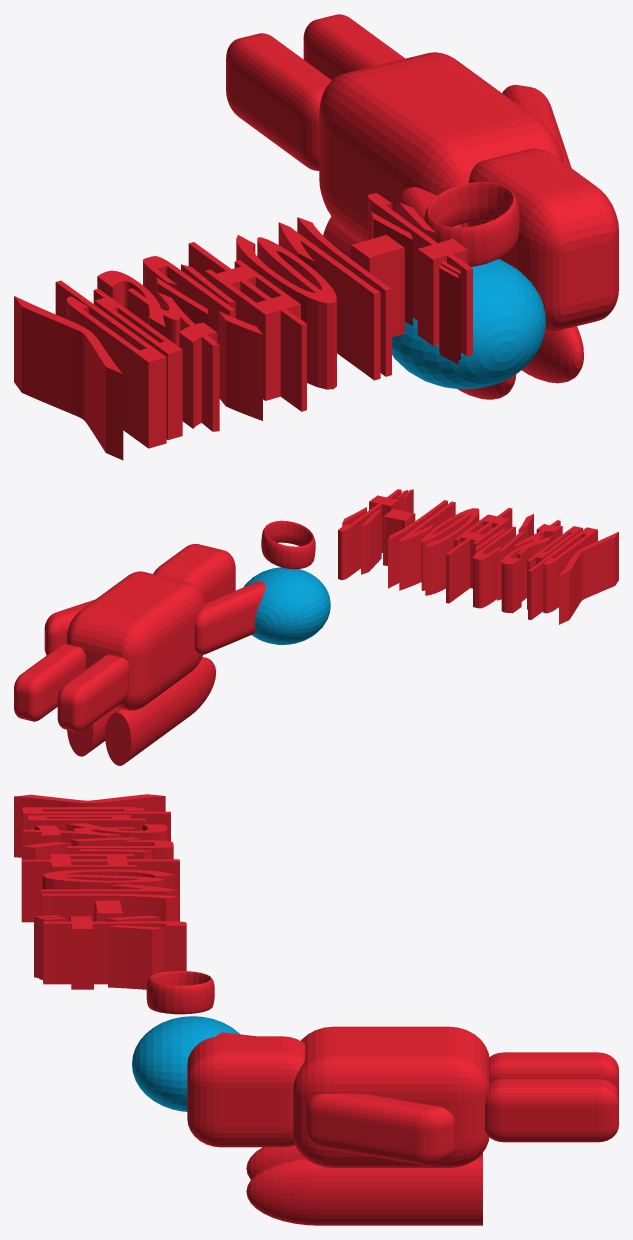
File: tinker.obj
The picture shows the model from 3 angles, top to bottom: view 1: azimuth 30°, elevation 25°; view 2: azimuth 150°, elevation 25°; view 3: azimuth 270°, elevation 25°; orthographic projection. The views are drawn at different scales.
Parts seen in each view (by area): view 1: group_0_15277357, group_0_40919; view 2: group_0_15277357, group_0_40919; view 3: group_0_15277357, group_0_40919.
Boxes of the visible parts, bbox=[...] form: group_0_15277357: bbox=[14, 14, 618, 460]; group_0_40919: bbox=[392, 259, 545, 389]; group_0_15277357: bbox=[14, 489, 618, 765]; group_0_40919: bbox=[244, 567, 330, 644]; group_0_15277357: bbox=[14, 794, 618, 1225]; group_0_40919: bbox=[132, 1016, 239, 1111].
Bounding box in the file's own units: 96.62 × 39 × 99.37.
